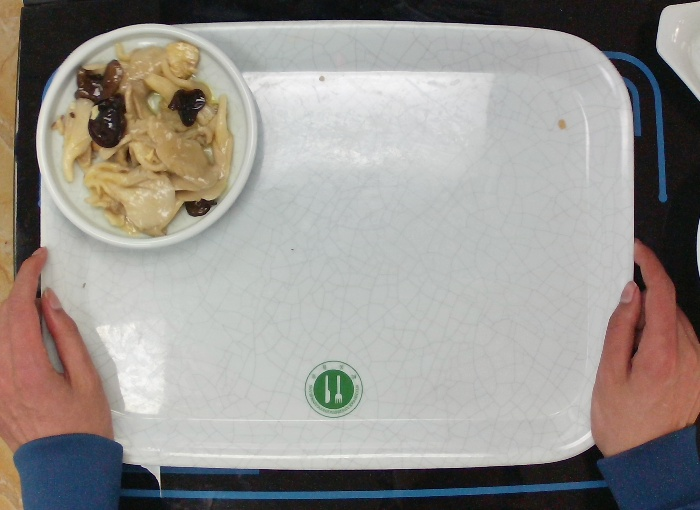JYsf-Xiao_Yuan_Pan: (31, 19, 261, 254)
